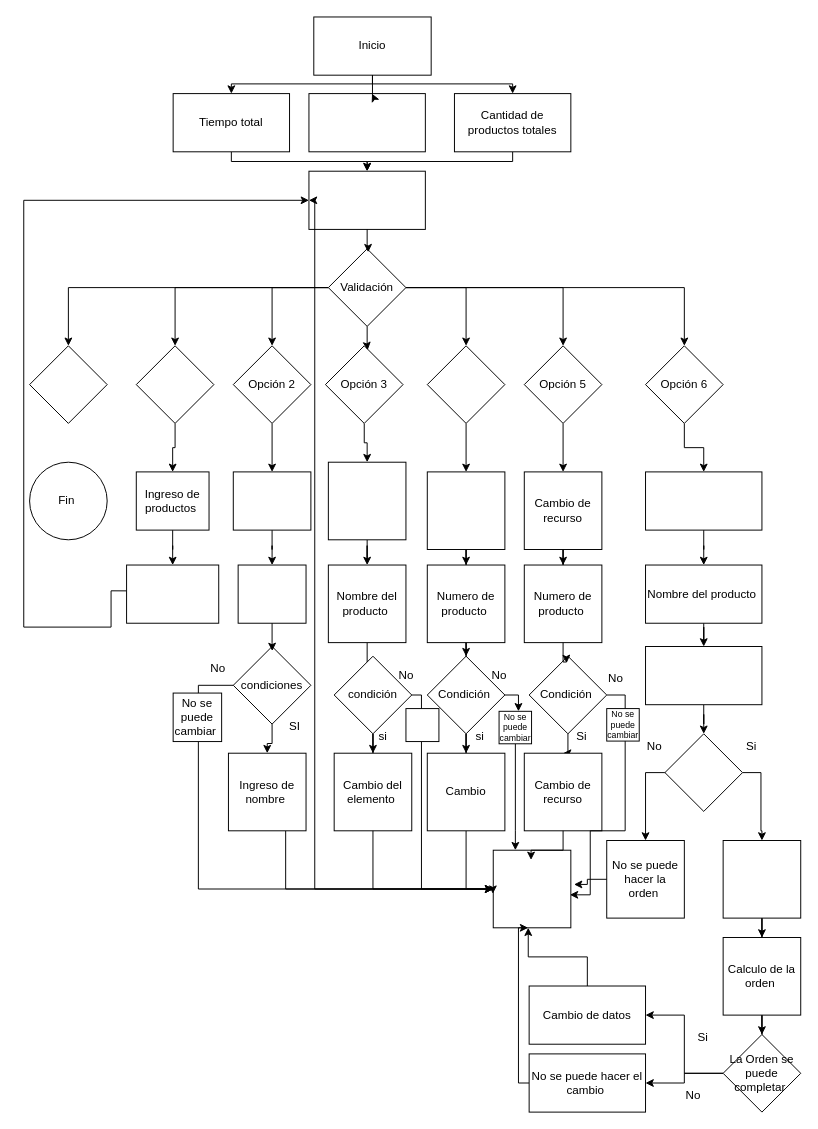
Some shapes in this 818 by 1129 pixel diagram are drawn without their labels. The centre of each missing label's shape, as x and y in pixels:
-tiempo -recursos -nombre del producto: pixel 172 593
Busca el producto: pixel 703 675
Cambio de tiempo: pixel 465 510
Cuanto se necesita: pixel 761 879
Eliminación del producto: pixel 366 500
Impresión del inventario: pixel 531 888
Menú: pixel 366 199
No se puede eliminar: pixel 422 725
Nombre de producto: pixel 271 500
Numero de producto a cambiar: pixel 271 593
Opción 0: pixel 68 384
Opción 1: pixel 174 384
Opción 4: pixel 465 384
Orden de compra: pixel 703 500
Recursos totales: pixel 366 122
Se encontró el producto: pixel 703 772
